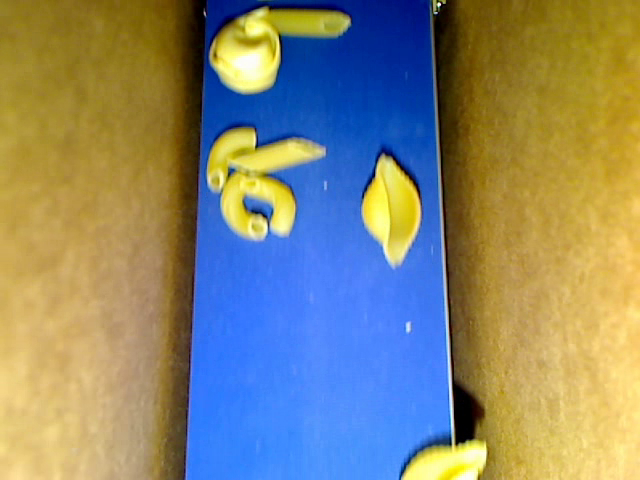elbow: (240, 173, 297, 237), (205, 126, 257, 194), (220, 170, 268, 241)
penne: (227, 137, 326, 176), (258, 9, 352, 39)
shell: (362, 153, 422, 269), (402, 437, 485, 479)
tortellini: (209, 6, 281, 96)
